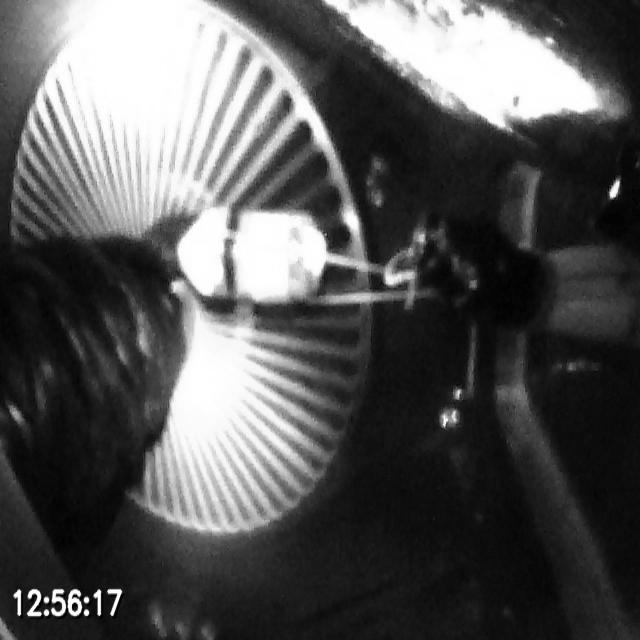head: (175, 208, 328, 306)
